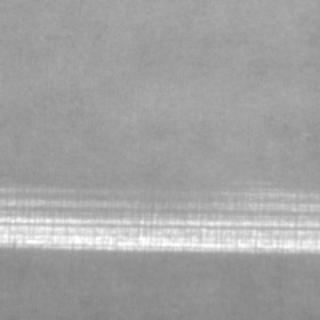scratches: (2, 205, 316, 249)
